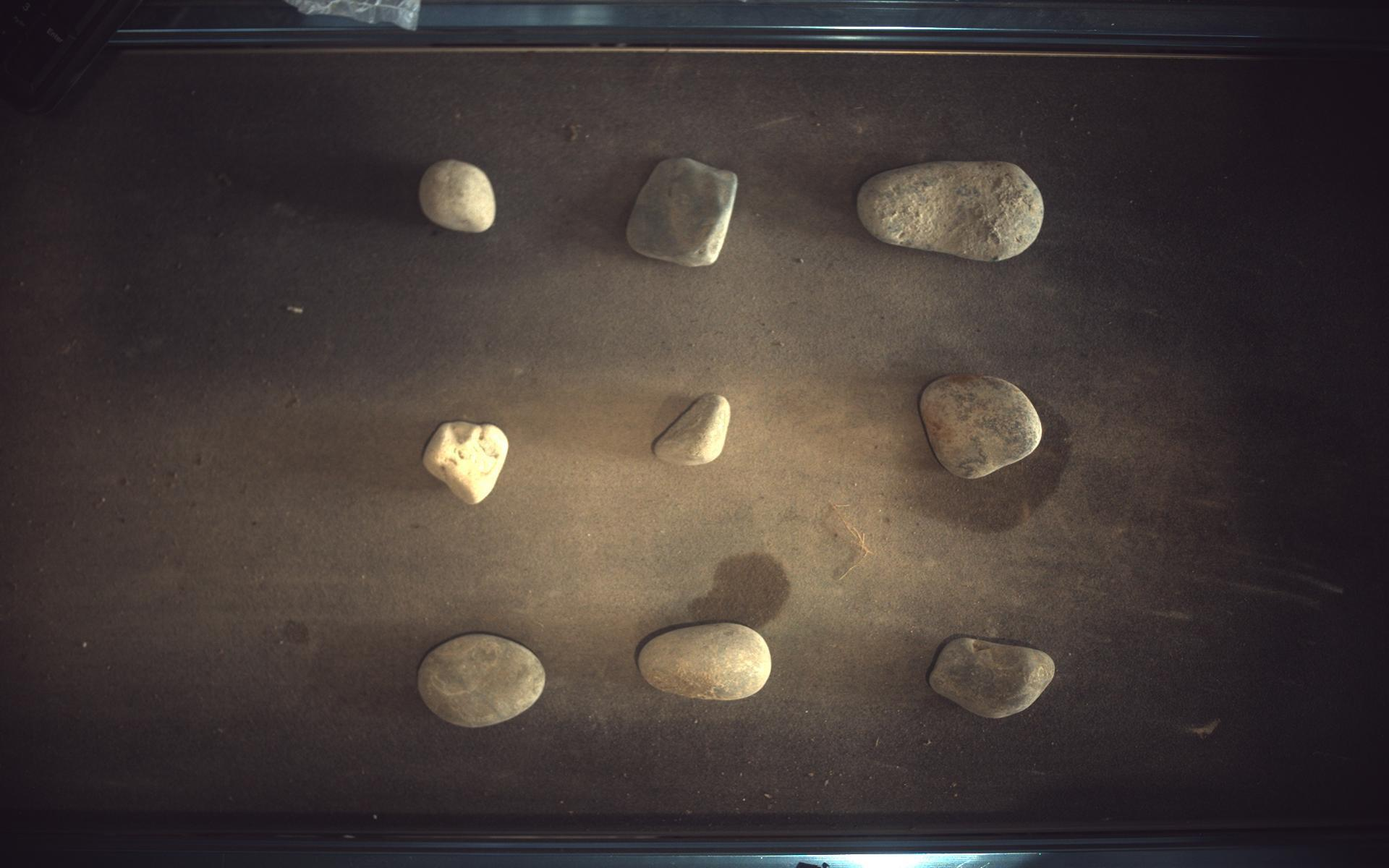stone: (859, 160, 1046, 261), (922, 374, 1045, 479), (627, 158, 739, 266), (418, 635, 546, 728), (639, 624, 773, 702), (931, 638, 1057, 720), (423, 421, 509, 505), (419, 158, 496, 232), (655, 393, 731, 466)
